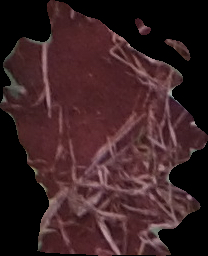soil: (1, 1, 206, 255)
